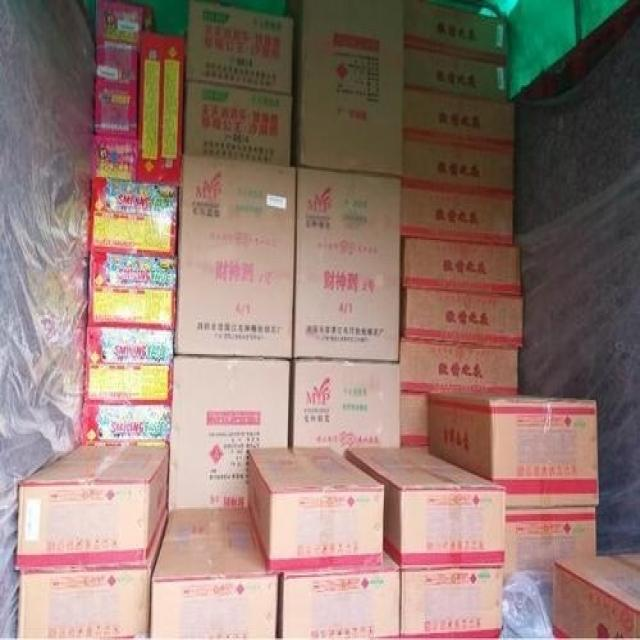Carton: (177, 0, 596, 638), (17, 357, 285, 567), (150, 446, 381, 633), (188, 0, 291, 162), (86, 177, 178, 325), (19, 569, 145, 637), (293, 363, 397, 441), (283, 572, 398, 635), (134, 32, 182, 177), (83, 327, 172, 397), (504, 509, 594, 558)
